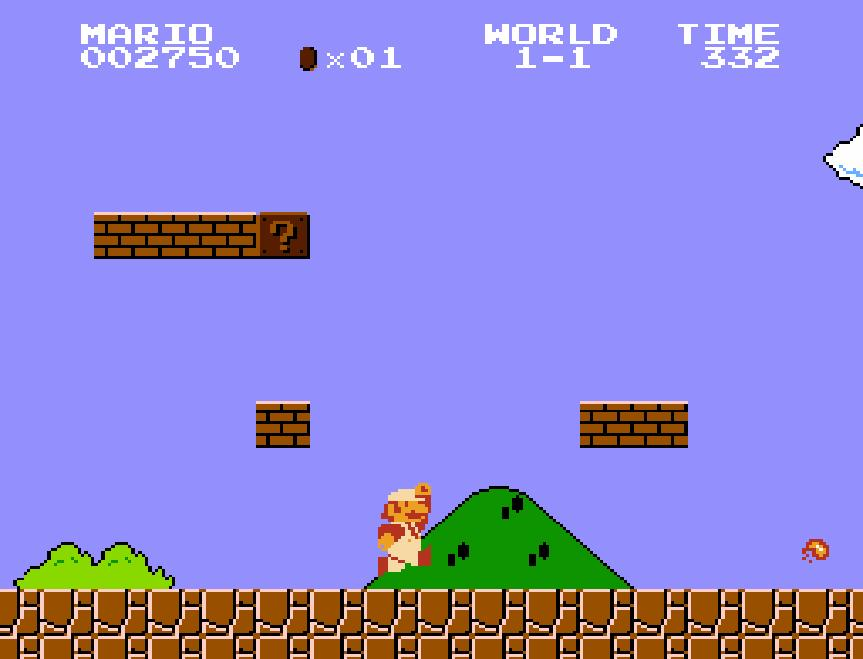fire_mario: (376, 482, 434, 580)
